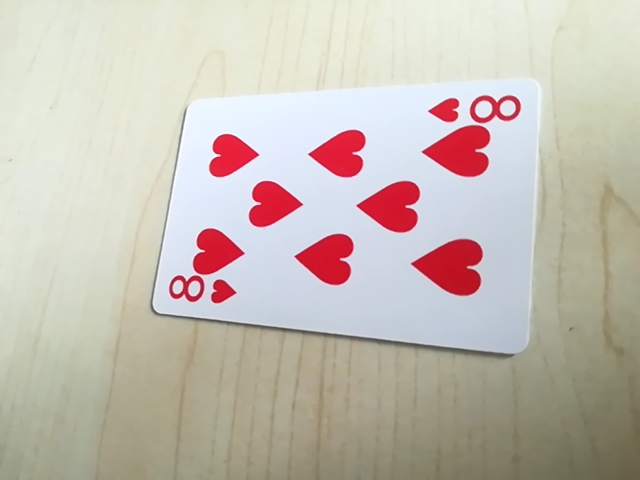hx 8: (423, 86, 527, 129), (165, 273, 241, 312)
